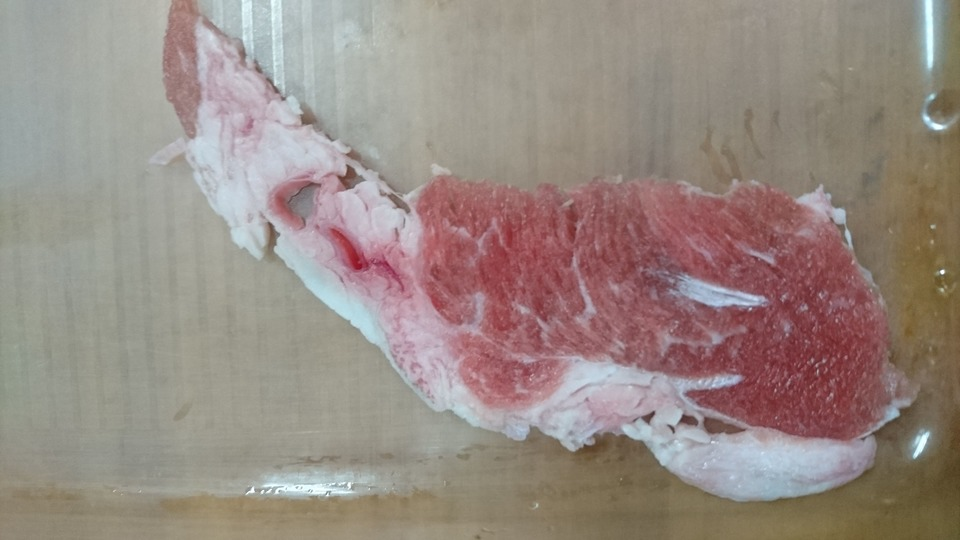restructured meat: (155, 4, 920, 500)
